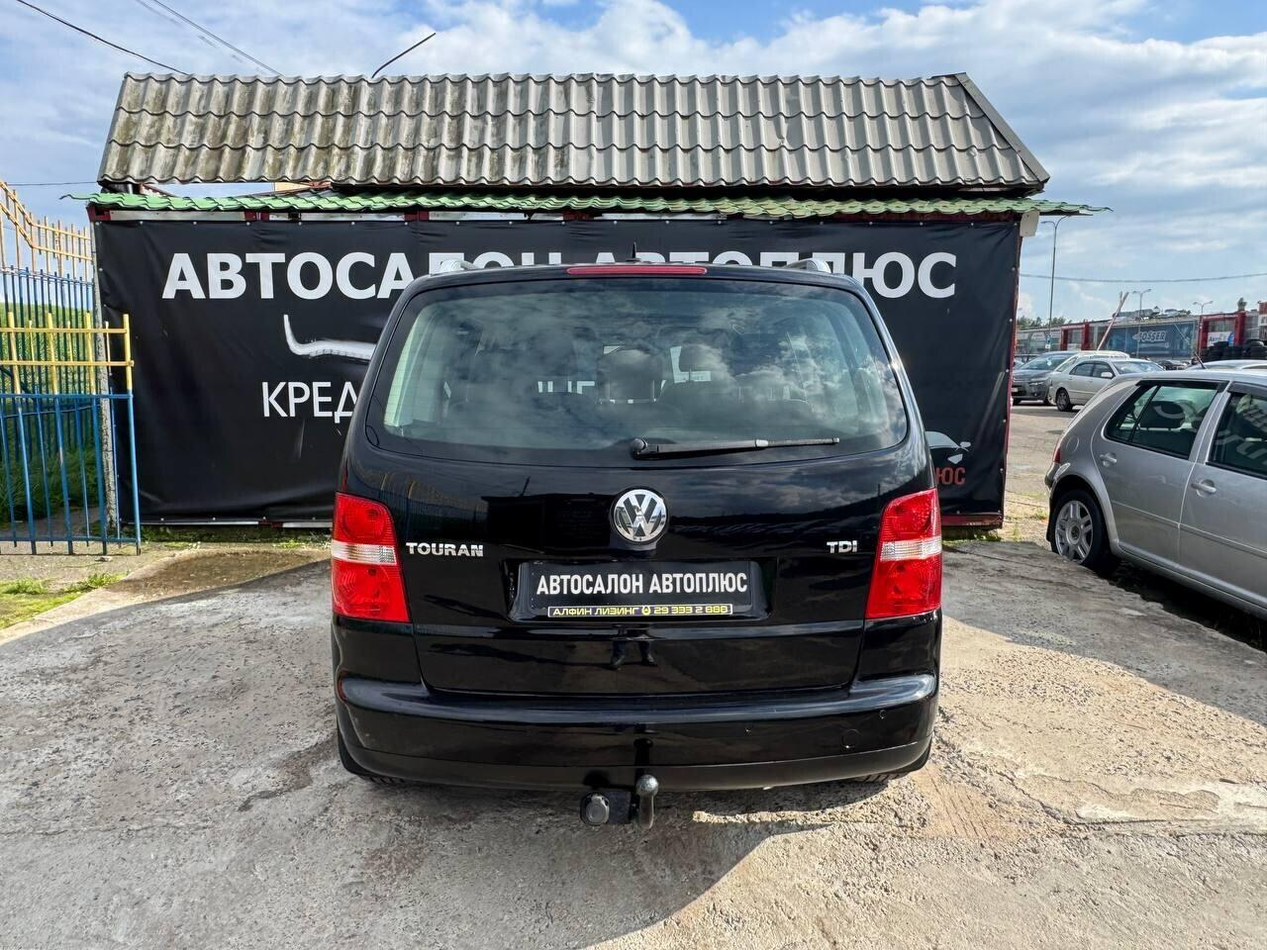Touran_2003-2006: (323, 257, 948, 807)
